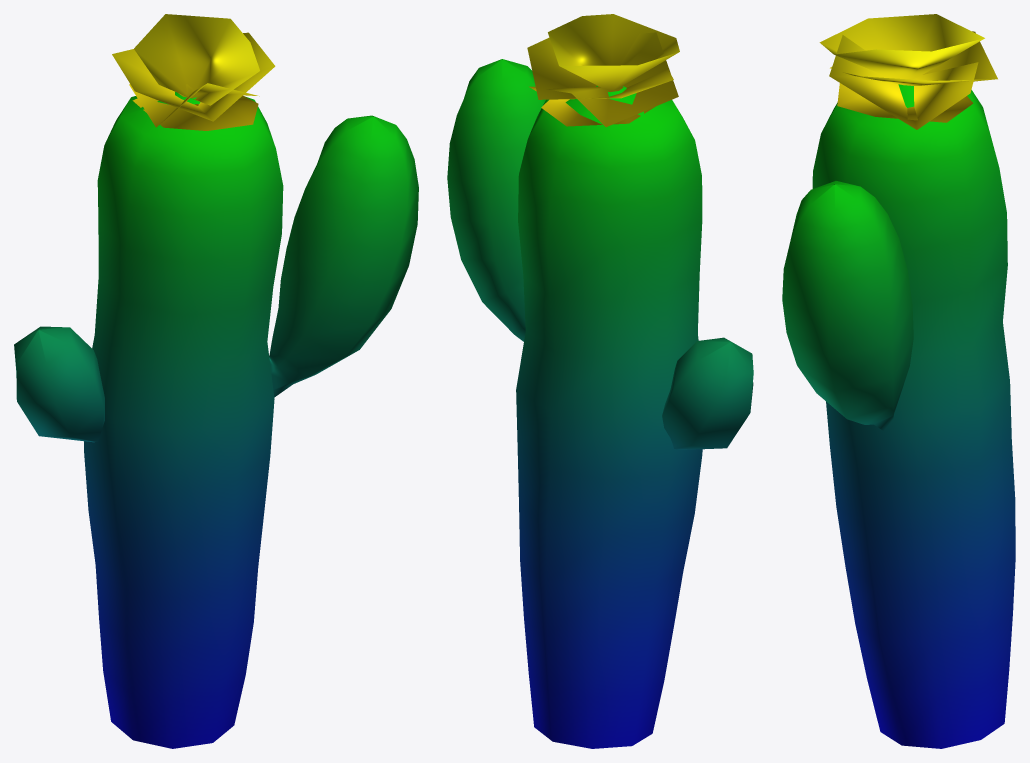
Rendered from Grocactus3.fbx.
The picture shows the model from 3 angles, left to right: view 1: azimuth 30°, elevation 25°; view 2: azimuth 150°, elevation 25°; view 3: azimuth 270°, elevation 25°; orthographic projection. The views are drawn at different scales.
Parts seen in each view (by area): view 1: Grocactus3_LOD0; view 2: Grocactus3_LOD0; view 3: Grocactus3_LOD0.
Part boxes in pixels (x1,y1,x2,y2): Grocactus3_LOD0: [14, 14, 418, 748]; Grocactus3_LOD0: [447, 14, 753, 748]; Grocactus3_LOD0: [782, 14, 1015, 748].
Size of what is drawn, in the model's own units: 175 by 333 by 100.
